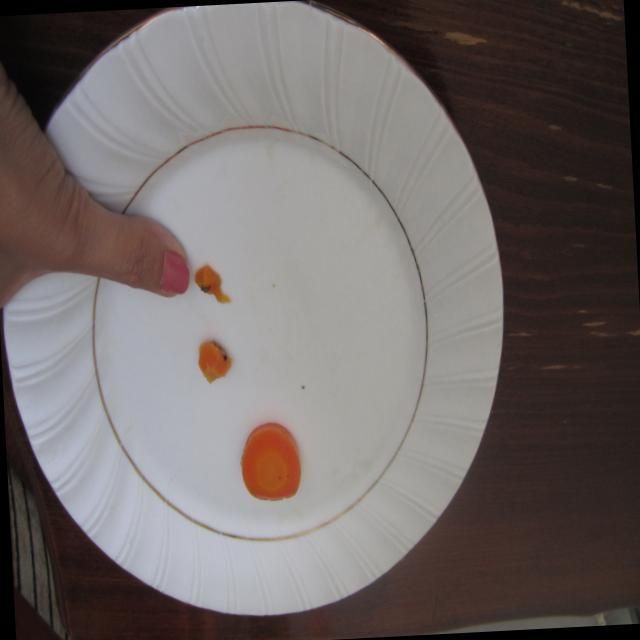Carrot: (232, 410, 310, 510)
Finger: (104, 207, 196, 320)
